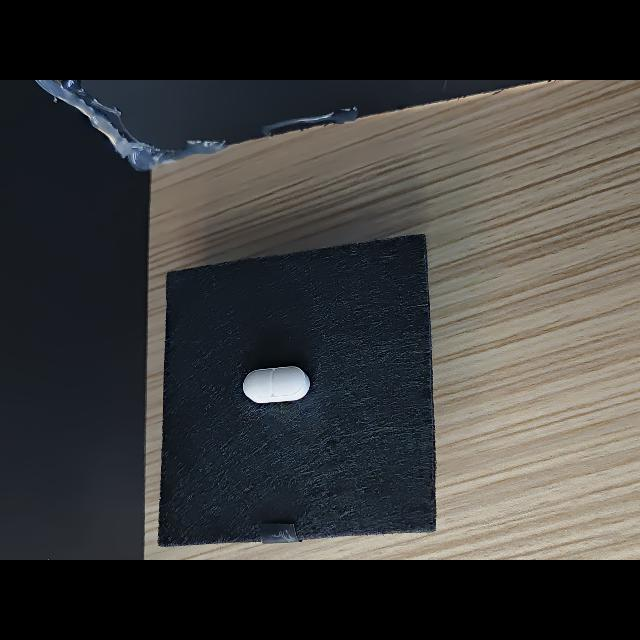Intact Pill: (243, 366, 310, 403)
